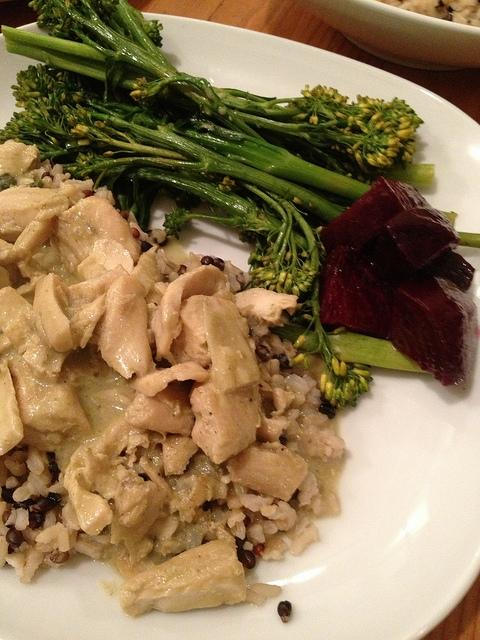broccoli: (2, 27, 424, 182), (0, 64, 344, 220), (27, 0, 269, 142), (134, 166, 320, 296), (290, 278, 374, 410), (268, 324, 433, 376)
